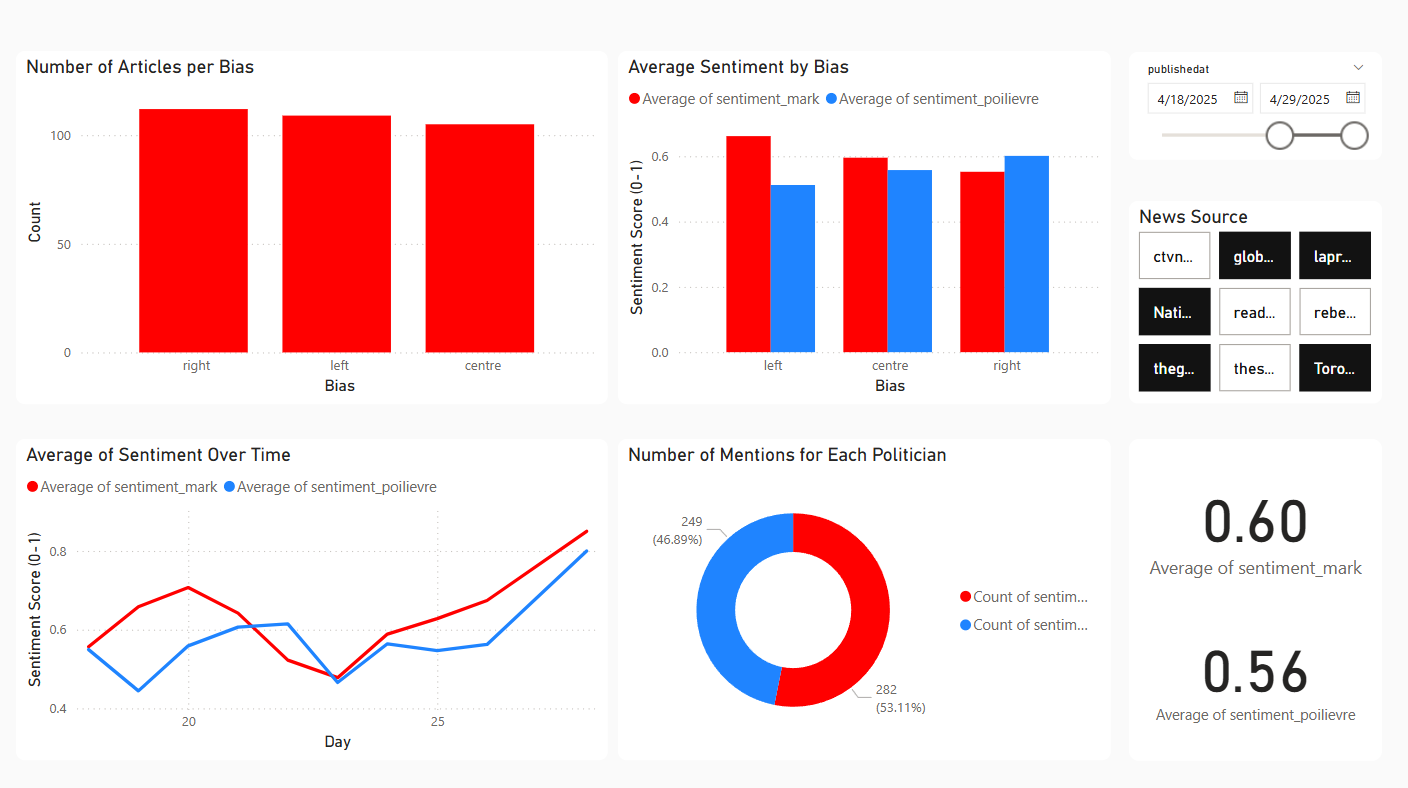

Layout of this report page (visuals, bound fields, positions):
{"tool":"powerbi","page":{"name":"Page 1","canvas":[1280,720],"ordinal":0},"visuals":[{"type":"clusteredColumnChart","title":"Average Sentiment by Bias","fields":{"Category":["STAGE_DATAMART sources.bias"],"Y":["Avg(STAGE_DATAMART sentiment.sentiment_mark)","Avg(STAGE_DATAMART sentiment.sentiment_poilievre)"]},"box":[562.2,48.9,447.8,321.1],"z":0},{"type":"lineChart","title":"Average of Sentiment Over Time","fields":{"Category":["STAGE_DATAMART articles.publishedat.Variation.Date Hierarchy.Day"],"Y":["Avg(STAGE_DATAMART sentiment.sentiment_mark)","Avg(STAGE_DATAMART sentiment.sentiment_poilievre)"]},"box":[14.4,402.2,537.8,292.2],"z":1000},{"type":"clusteredColumnChart","title":"Number of Articles per Bias","fields":{"Category":["STAGE_DATAMART sources.bias"],"Y":["CountNonNull(STAGE_DATAMART sentiment.article_id)"]},"box":[14.4,48.9,537.8,321.1],"z":2000},{"type":"slicer","fields":{"Values":["STAGE_DATAMART articles.publishedat"]},"box":[1026.7,50,230,97.8],"z":3000},{"type":"advancedSlicerVisual","title":"News Source","fields":{"Values":["STAGE_DATAMART sources.news_source_name"]},"box":[1026.7,185.6,230,184.4],"z":4000},{"type":"donutChart","title":"Number of Mentions for Each Politician","fields":{"Y":["CountNonNull(STAGE_DATAMART sentiment.sentiment_mark)","CountNonNull(STAGE_DATAMART sentiment.sentiment_poilievre)"]},"box":[562.2,402.2,447.8,292.2],"z":5000},{"type":"card","fields":{"Values":["Avg(STAGE_DATAMART sentiment.sentiment_mark)"]},"box":[1026.7,402.2,230,156.7],"z":6000},{"type":"card","fields":{"Values":["Avg(STAGE_DATAMART sentiment.sentiment_poilievre)"]},"box":[1026.7,536.7,230,157.8],"z":7000}]}

Visuals, with their boxes in screenshot pixels (x1, y1, x2, y2), scaled from the page's 1280x720 canvas onto the 1408x788 screenshot:
"Average Sentiment by Bias" clusteredColumnChart: 618, 54, 1111, 405
"Average of Sentiment Over Time" lineChart: 16, 440, 607, 760
"Number of Articles per Bias" clusteredColumnChart: 16, 54, 607, 405
slicer - STAGE_DATAMART articles.publishedat: 1129, 55, 1382, 162
"News Source" advancedSlicerVisual: 1129, 203, 1382, 405
"Number of Mentions for Each Politician" donutChart: 618, 440, 1111, 760
card - Avg(STAGE_DATAMART sentiment.sentiment_mark): 1129, 440, 1382, 612
card - Avg(STAGE_DATAMART sentiment.sentiment_poilievre): 1129, 587, 1382, 760
